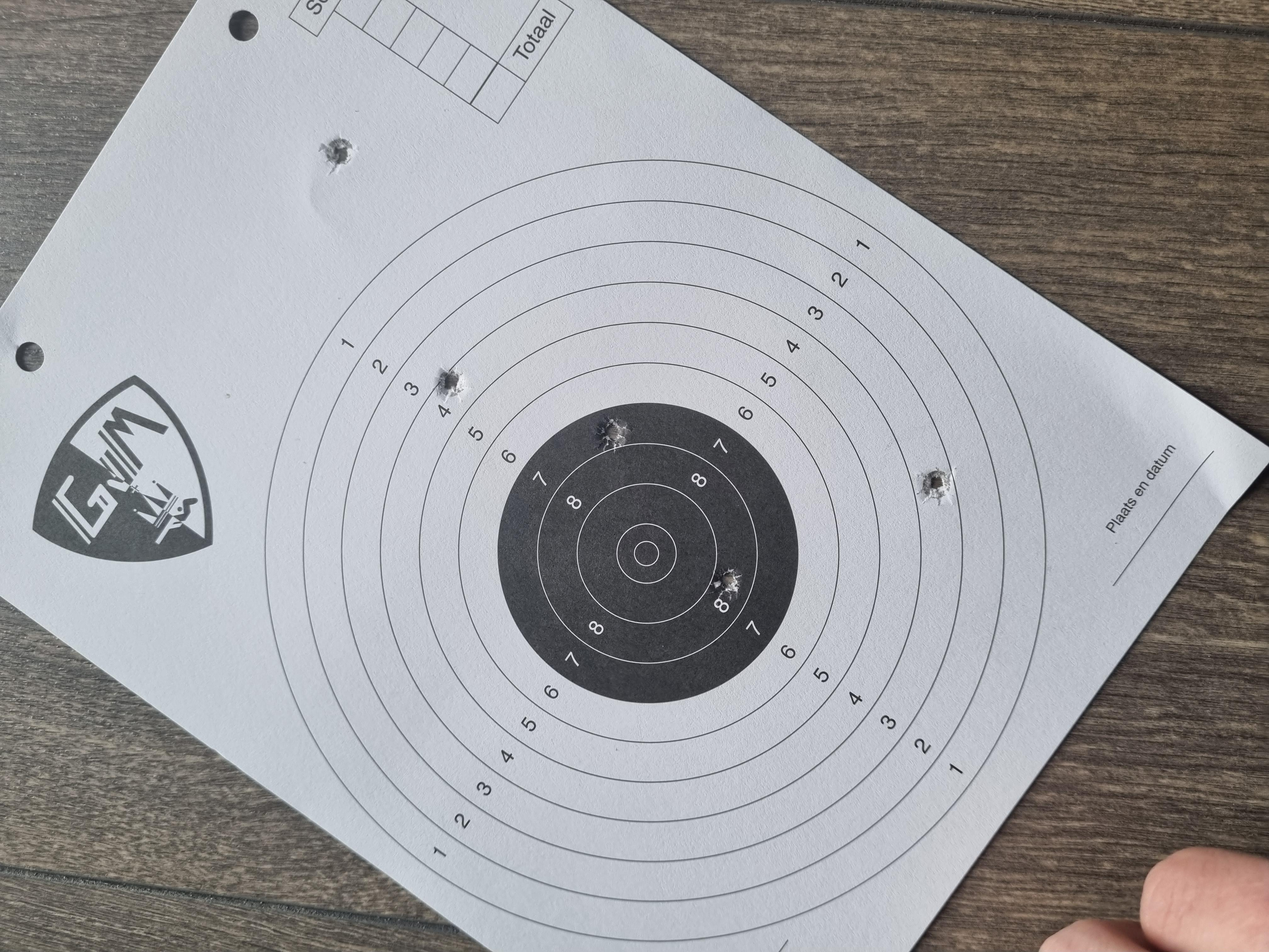hole: (1037, 238, 1086, 265), (594, 687, 643, 714), (665, 446, 713, 471), (470, 530, 511, 557), (732, 328, 781, 348)
